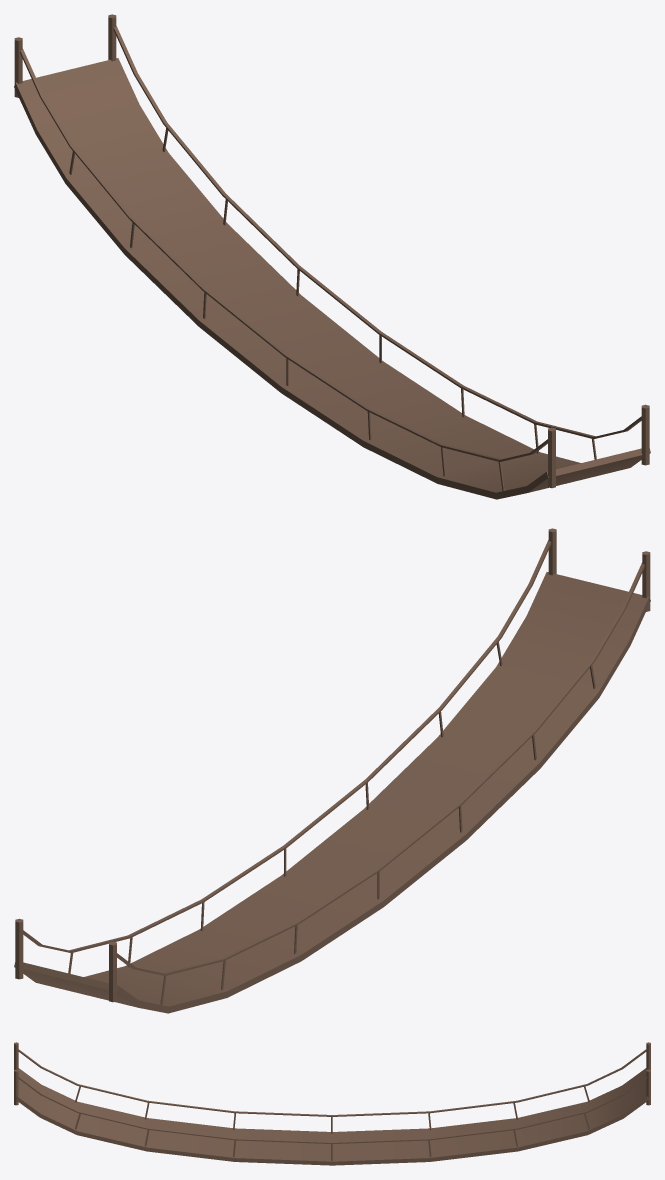
Rendered from mdl_Bridge02.fbx.
The picture shows the model from 3 angles, top to bottom: view 1: azimuth 30°, elevation 25°; view 2: azimuth 150°, elevation 25°; view 3: azimuth 270°, elevation 25°; orthographic projection. The views are drawn at different scales.
Parts seen in each view (by area): view 1: mdl_Bridge03; view 2: mdl_Bridge03; view 3: mdl_Bridge03.
Part boxes in pixels (left/top/right/bottom): mdl_Bridge03: left=14, top=14, right=650, bottom=499; mdl_Bridge03: left=14, top=528, right=650, bottom=1013; mdl_Bridge03: left=14, top=1042, right=650, bottom=1165.
Size of the model in its own units: 137 by 201 by 1242.
1 material, 1 textured.
